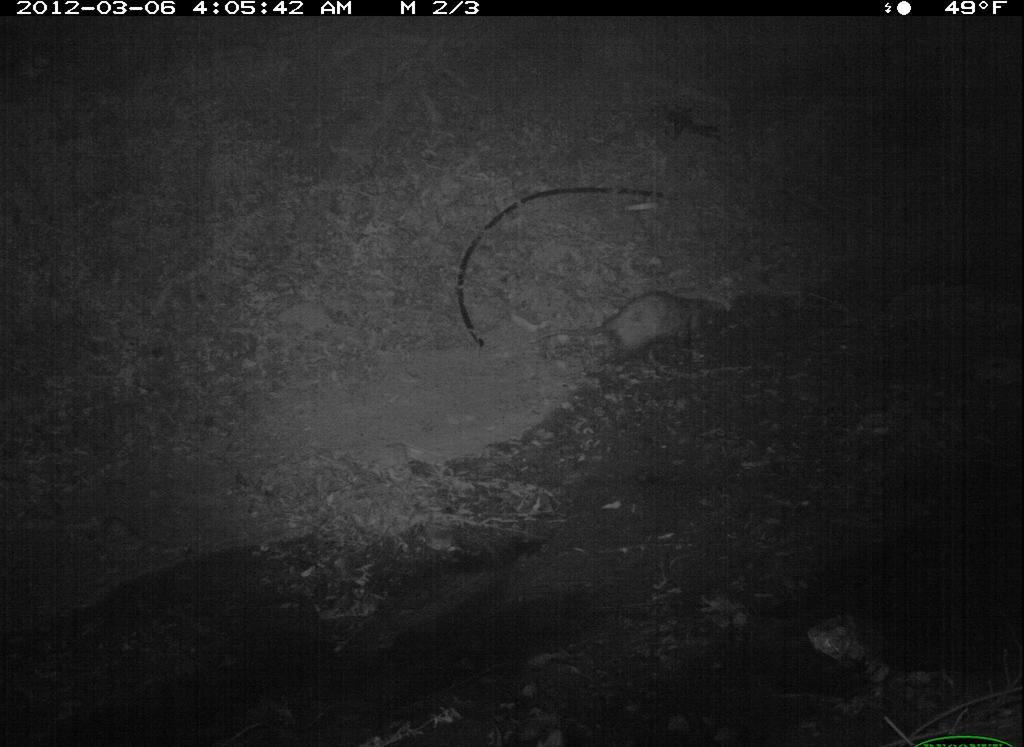opossum: (538, 286, 725, 382)
